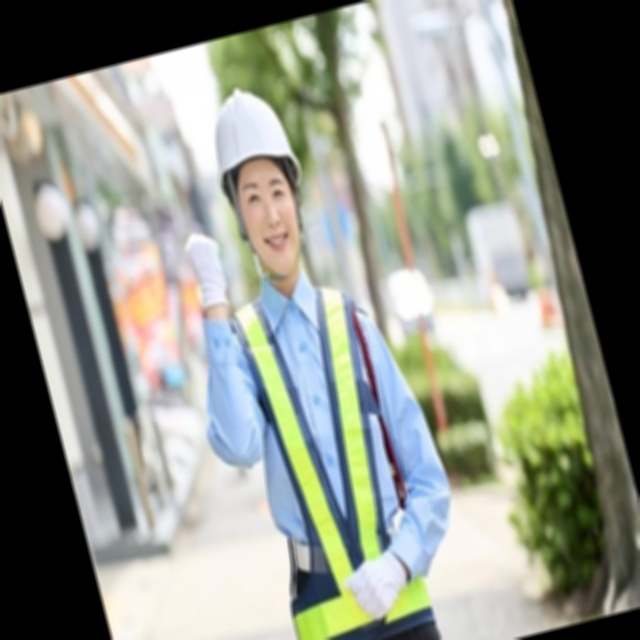Con_Casco: (197, 78, 322, 276)
Con_Chaleco: (209, 269, 434, 640)
